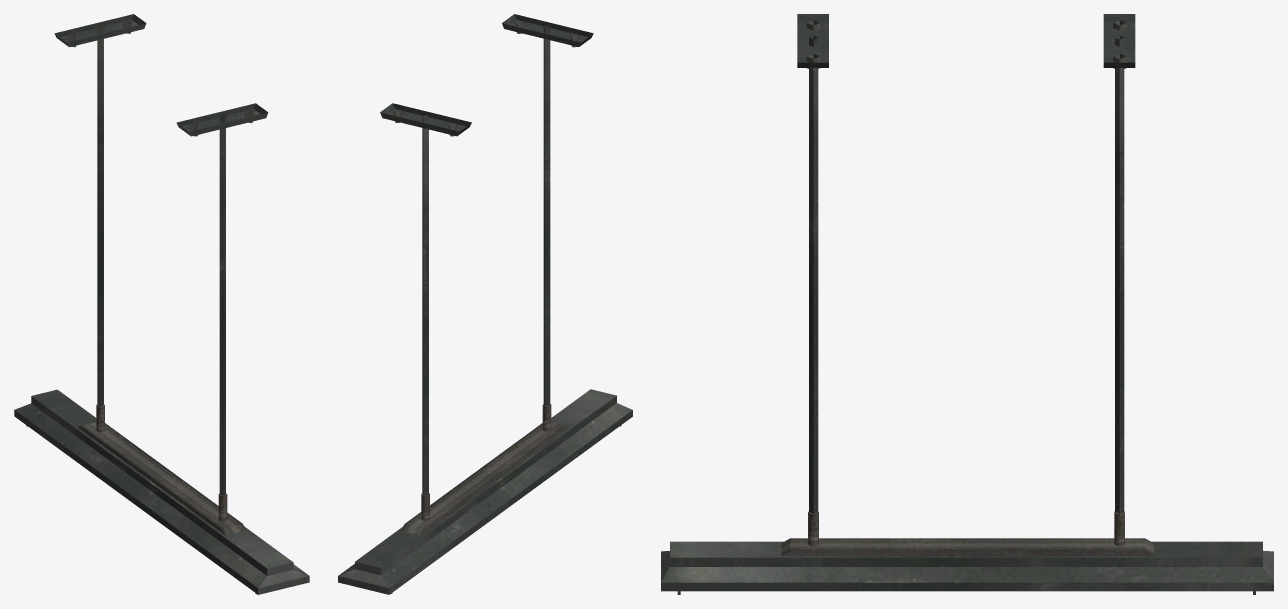
File: prison_flourescentlight001a.glb
3 renders of one model, left to right at view 1: azimuth 30°, elevation 25°; view 2: azimuth 150°, elevation 25°; view 3: azimuth 270°, elevation 25°, orthographic. The views are drawn at different scales.
Visible parts, largest first — view 1: prison_flourescentlight001a; view 2: prison_flourescentlight001a; view 3: prison_flourescentlight001a.
Part boxes in pixels (left/top/right/bottom): prison_flourescentlight001a: left=14, top=14, right=309, bottom=594; prison_flourescentlight001a: left=338, top=14, right=632, bottom=594; prison_flourescentlight001a: left=661, top=14, right=1273, bottom=594.
Bounding box in the file's own units: 0.2371 × 1.24 × 1.26.
1 material, 1 textured.
